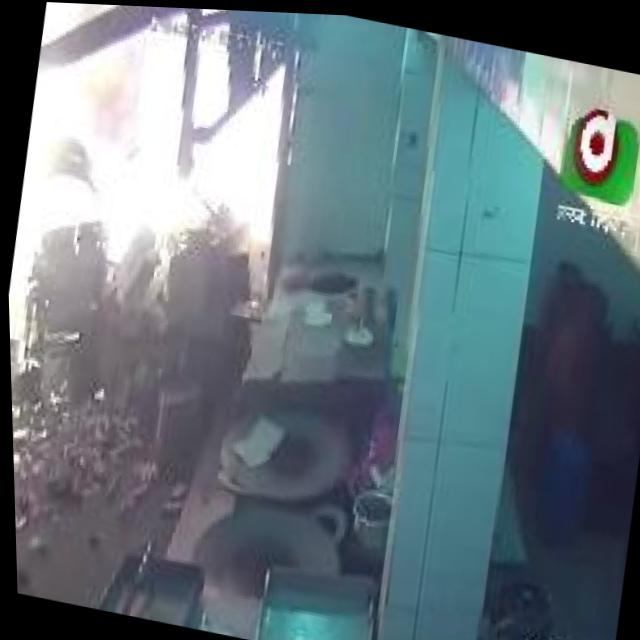fire: (0, 0, 181, 377), (83, 28, 300, 306)
